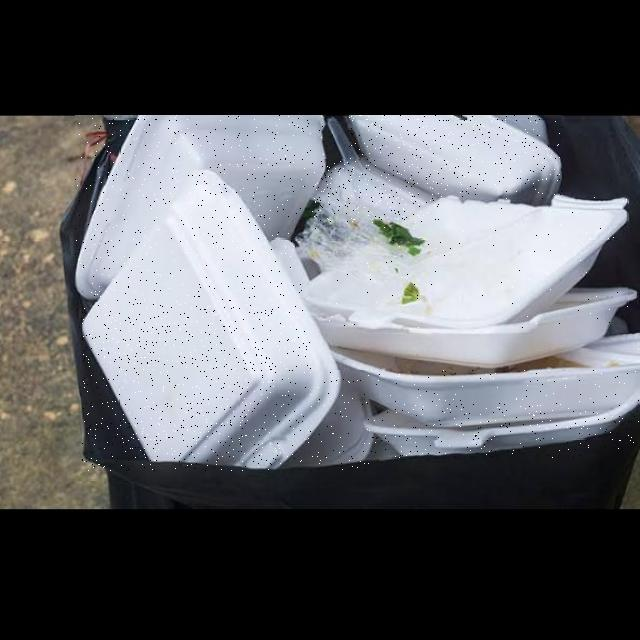plastic: (296, 191, 420, 270)
styrofoam: (82, 172, 338, 471), (75, 115, 327, 302), (304, 196, 628, 331), (312, 288, 638, 370), (332, 335, 639, 422), (349, 116, 562, 207), (363, 403, 634, 458), (278, 368, 379, 471), (315, 159, 439, 223)
